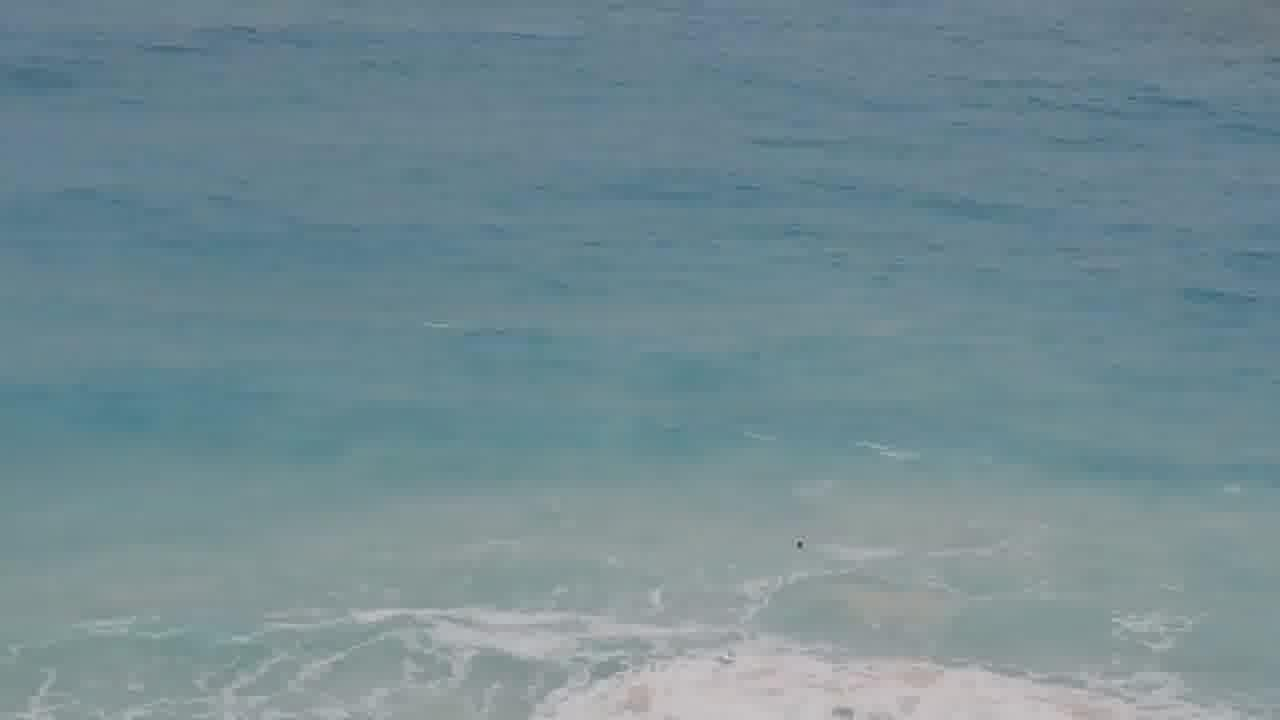swimmer: (787, 529, 814, 553)
